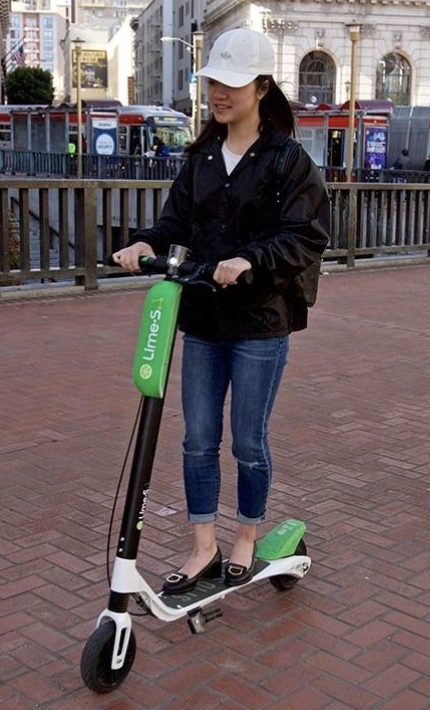scooter: (76, 247, 314, 695)
